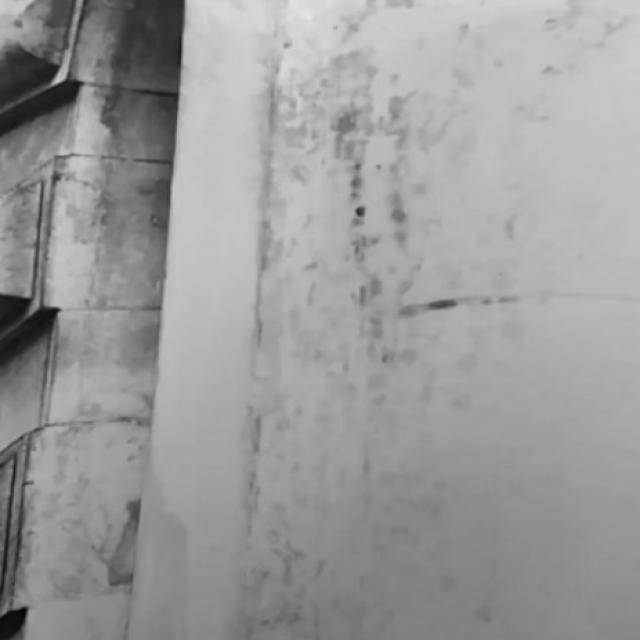stain marks: (243, 0, 494, 407), (235, 409, 335, 636), (496, 0, 633, 123)
